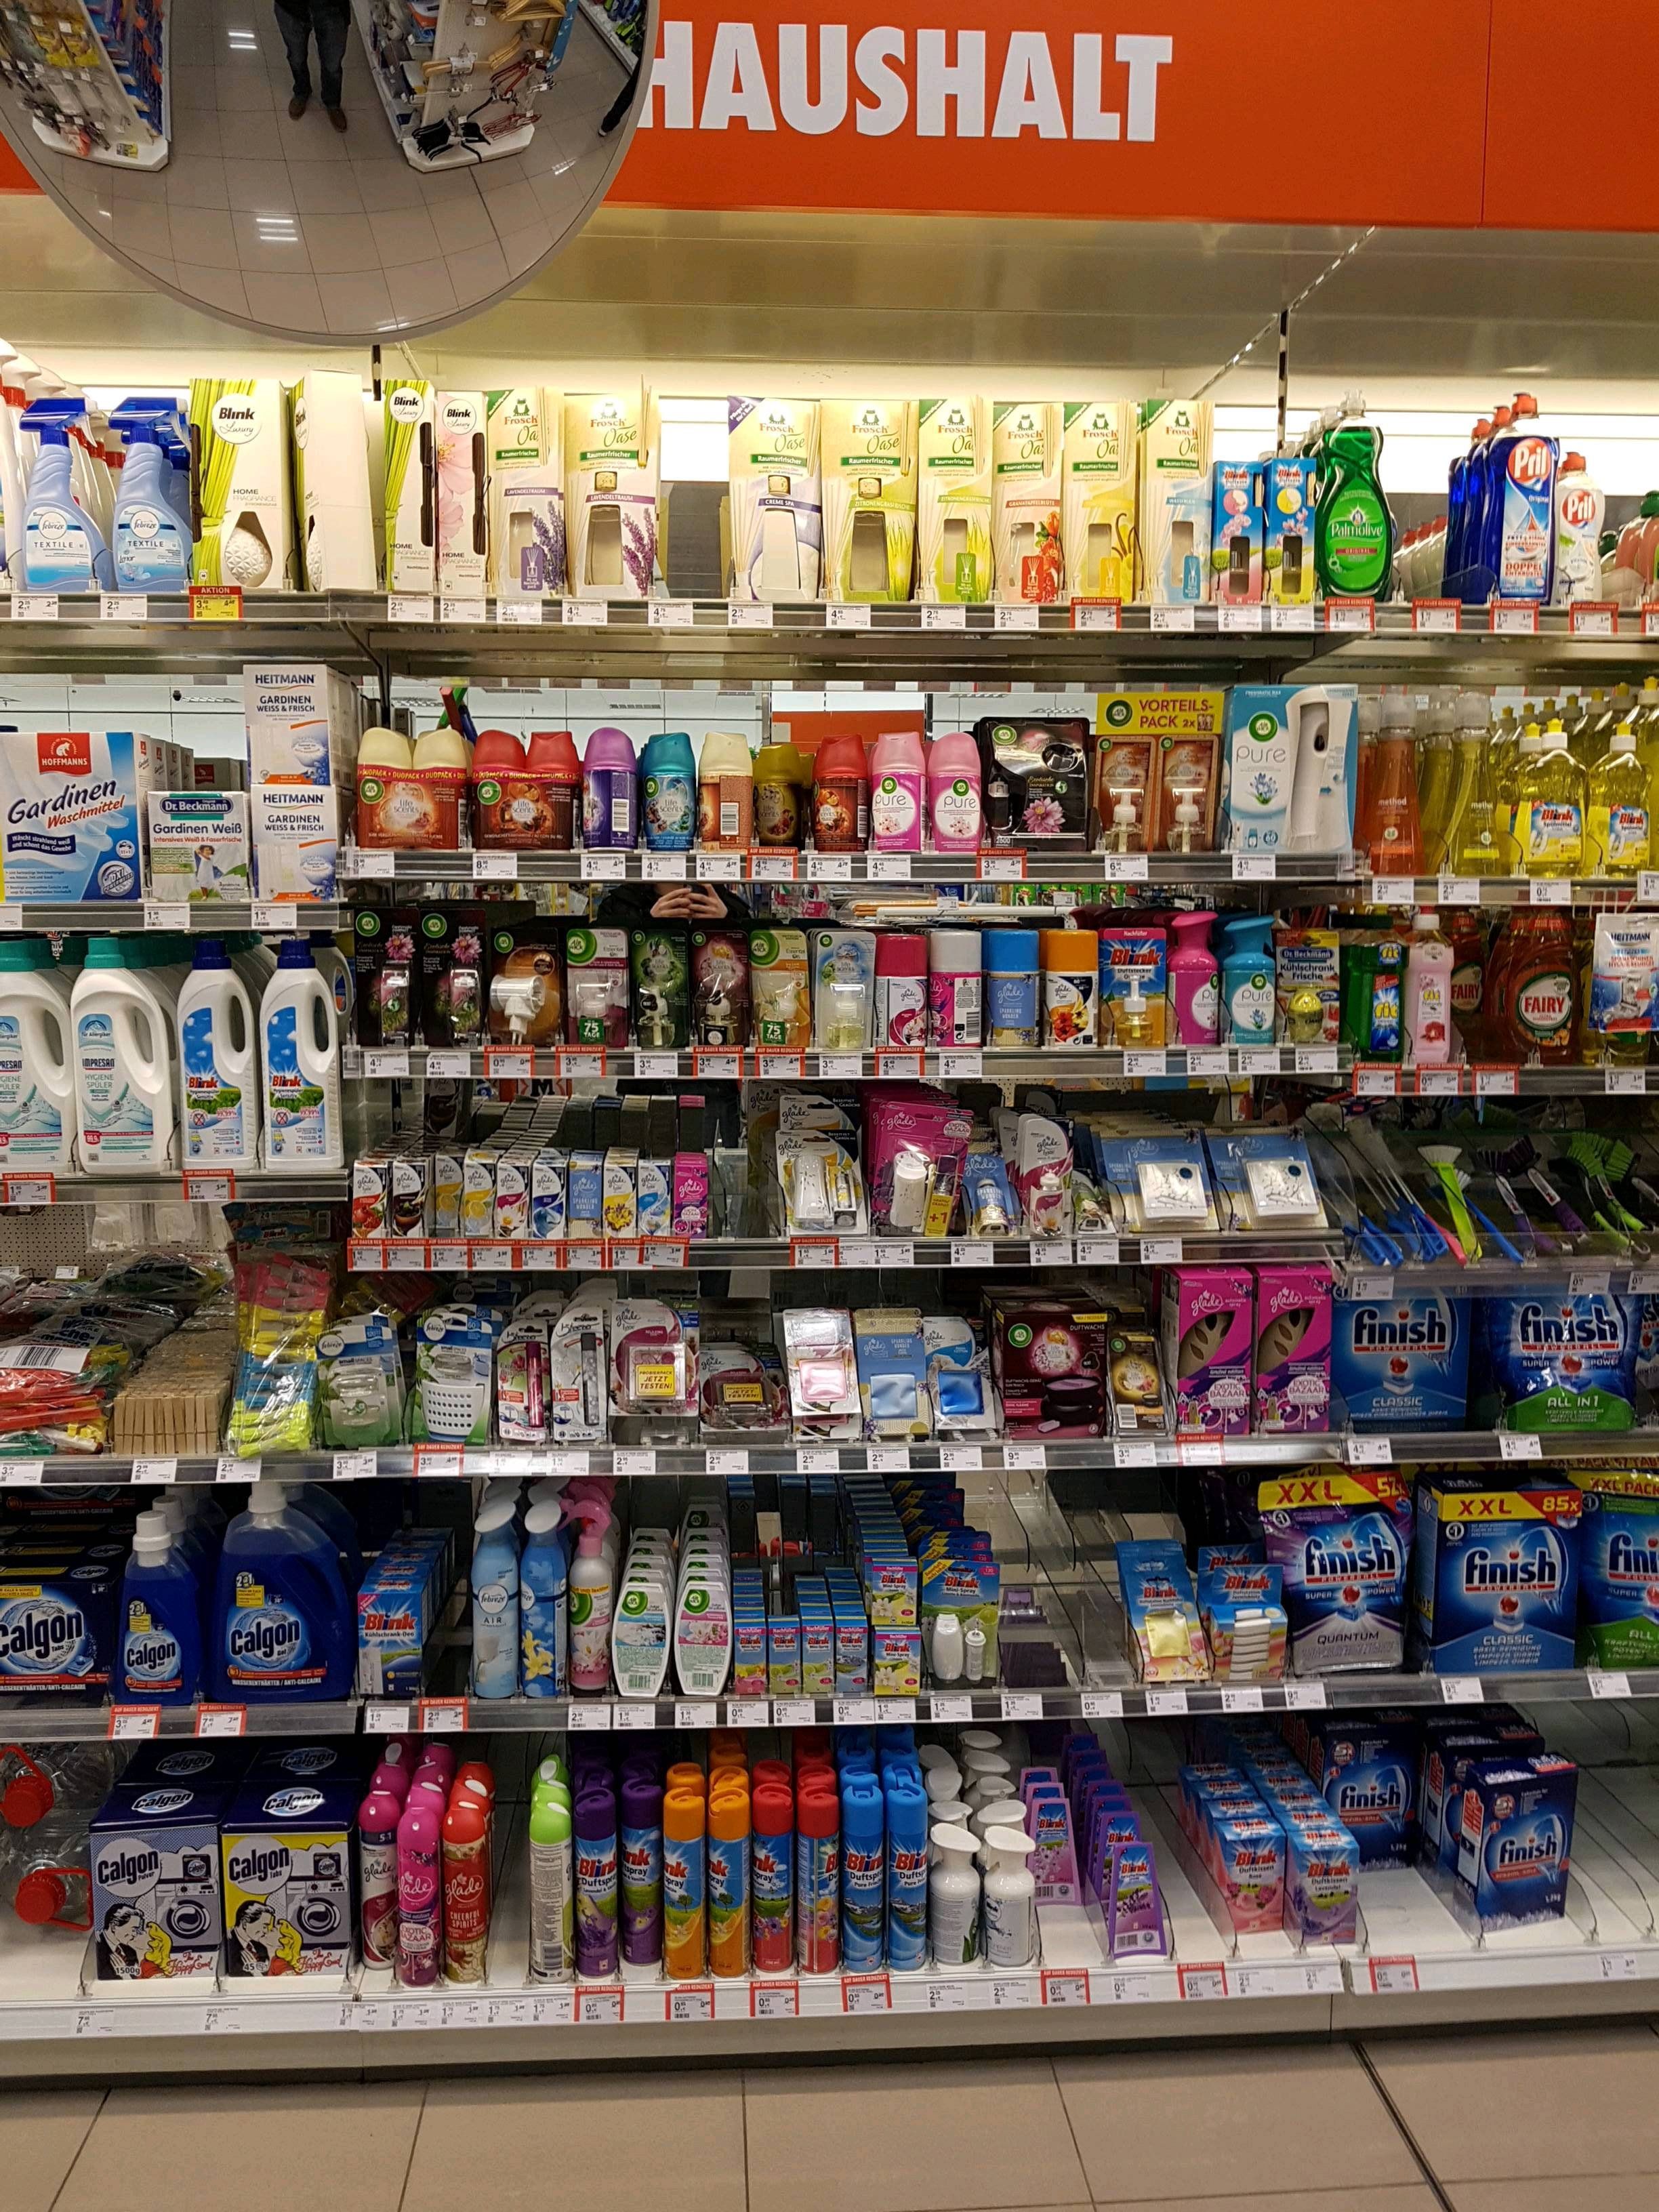Misplacement: (1033, 1796, 1108, 1970)
Out-of-stock: (655, 392, 734, 603)
